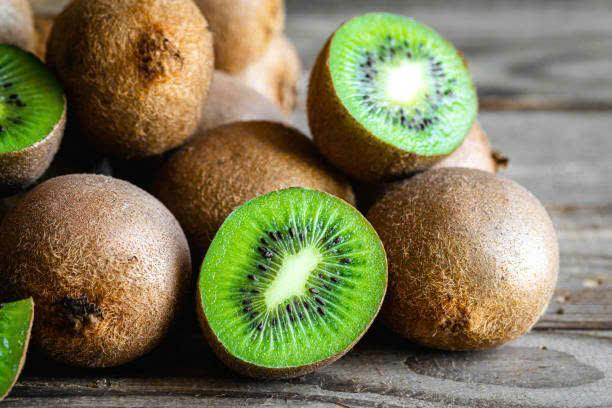kiwi: (194, 185, 391, 377), (14, 173, 193, 362), (389, 169, 560, 366), (310, 3, 473, 172), (51, 0, 203, 152)
